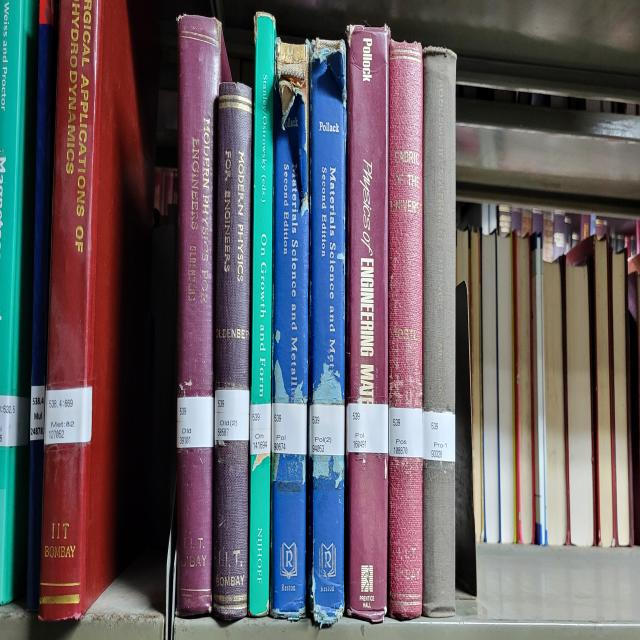Book: (39, 0, 159, 620), (176, 16, 229, 614), (345, 24, 390, 622), (270, 41, 309, 620), (212, 84, 252, 622), (310, 38, 346, 625), (26, 0, 58, 611), (389, 41, 422, 620), (249, 14, 276, 617), (422, 49, 456, 414), (422, 460, 455, 617)
Label: (44, 387, 92, 444), (346, 403, 389, 455), (178, 395, 214, 449), (271, 403, 308, 455), (215, 390, 250, 444), (309, 403, 345, 455), (422, 411, 455, 463), (389, 406, 422, 457), (250, 403, 271, 455), (30, 384, 45, 441)
